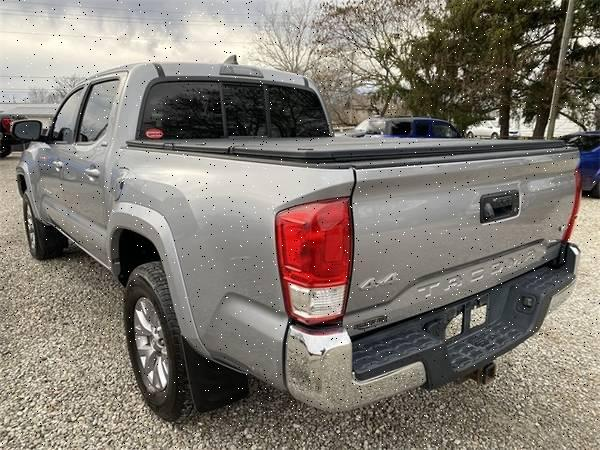Front_Left_Door: (34, 139, 76, 232)
Front_Left_Window: (48, 77, 99, 139)
Left_Taillight: (278, 200, 356, 334)
Rear_Bumper: (281, 248, 578, 411)
Rear_Fender: (104, 143, 356, 386)
Rear_Left_Door: (67, 140, 115, 270)
Rear_Left_Window: (78, 70, 141, 143)
Rear_Windshield: (116, 64, 334, 142)
Tailgate: (343, 150, 578, 335)
Wheel: (124, 262, 188, 420), (24, 192, 62, 261)
